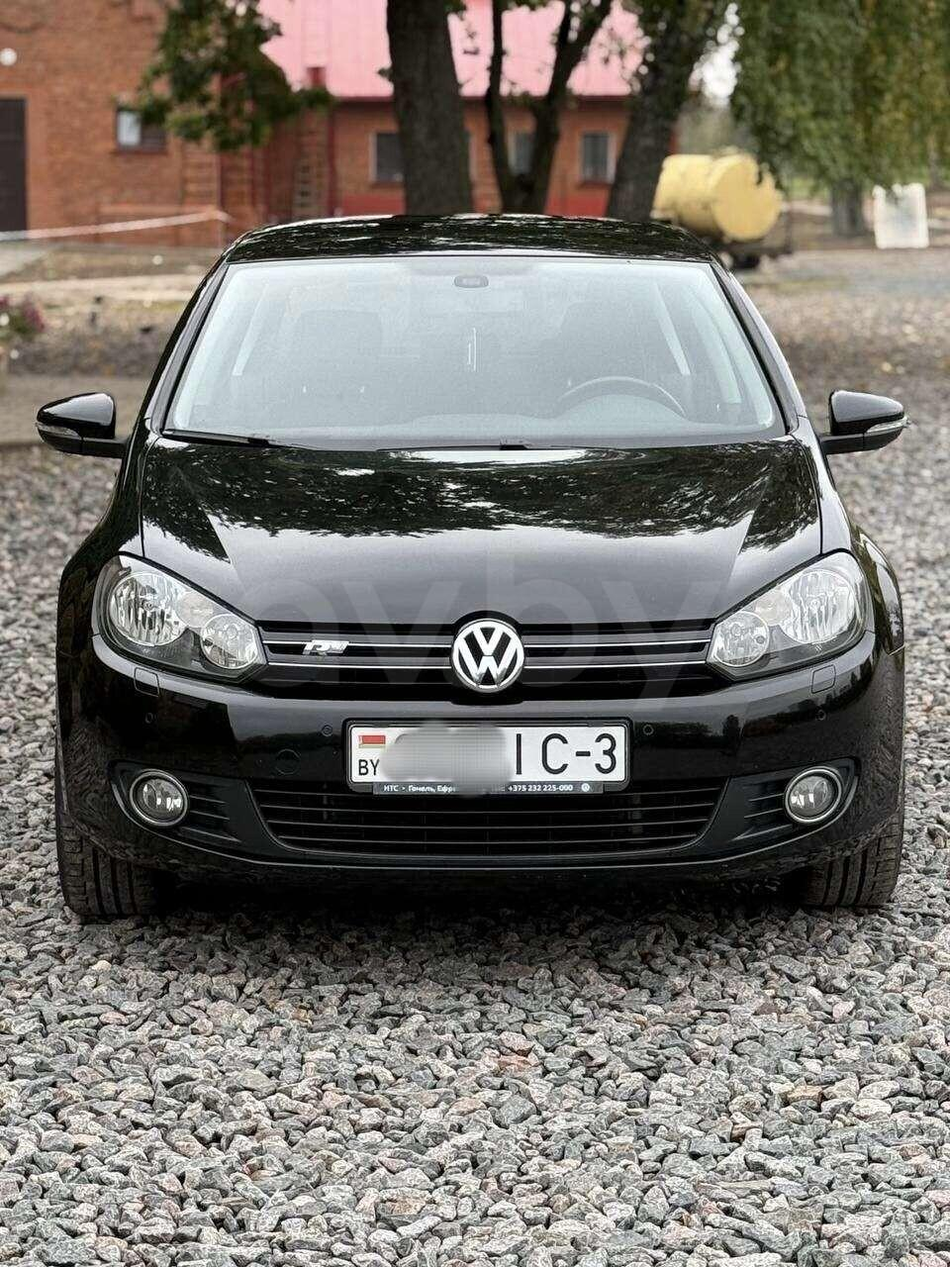Golf_2008-2013: (37, 213, 926, 922)
